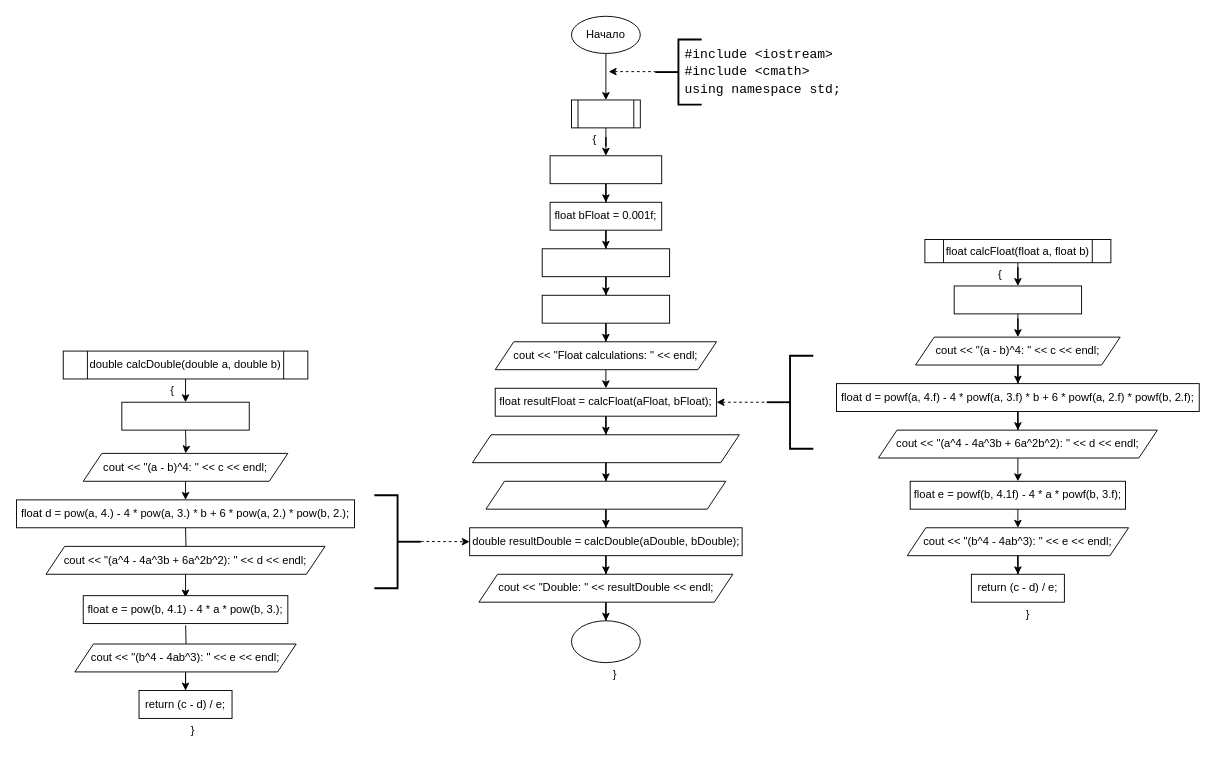
The diagram is 1216 pixels wide and 758 high, and some of its shapes have lost their labels. Each missing label, with the centre of its shape:
cout << "Double calculations: " << endl;: (605,494)
cout << "Float: " << resultFloat << endl << endl;: (605,448)
double aDouble = 100.0;: (605,262)
double bDouble = 0.001;: (605,308)
double c = pow(a - b, 4.);: (185,415)
float aFloat = 100.0f;: (605,169)
float c = powf(a - b, 4.f);: (1017,299)
int main(): (605,113)
return 0;: (605,641)
